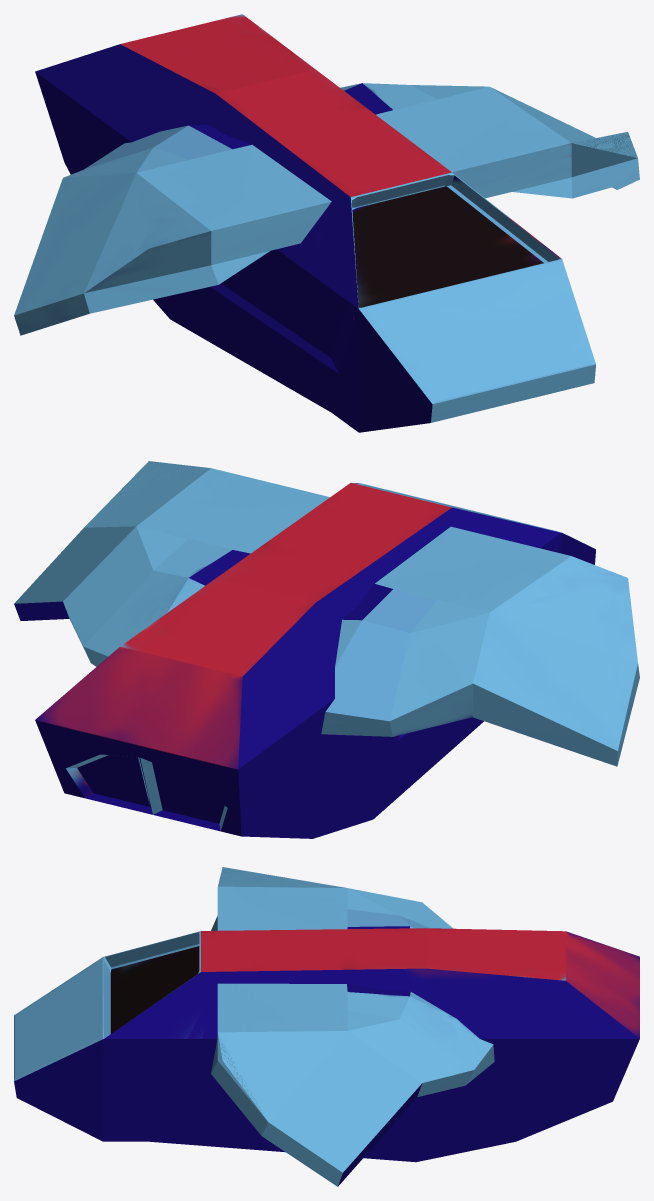
The model's file is boxcart_ship_proto#2.gltf.
3 views of the same model, one above another, from view 1: azimuth 30°, elevation 25°; view 2: azimuth 150°, elevation 25°; view 3: azimuth 270°, elevation 25° (orthographic). The views are drawn at different scales.
Visible parts, largest first — view 1: Ship-Frame; view 2: Ship-Frame; view 3: Ship-Frame.
Boxes of the visible parts, <box> form: Ship-Frame: <box>14,14,639,432</box>; Ship-Frame: <box>14,461,639,838</box>; Ship-Frame: <box>14,867,639,1186</box>.
Size of the model in its own units: 14.58 by 4.81 by 15.8.
Materials: 1 (1 with a texture image).
